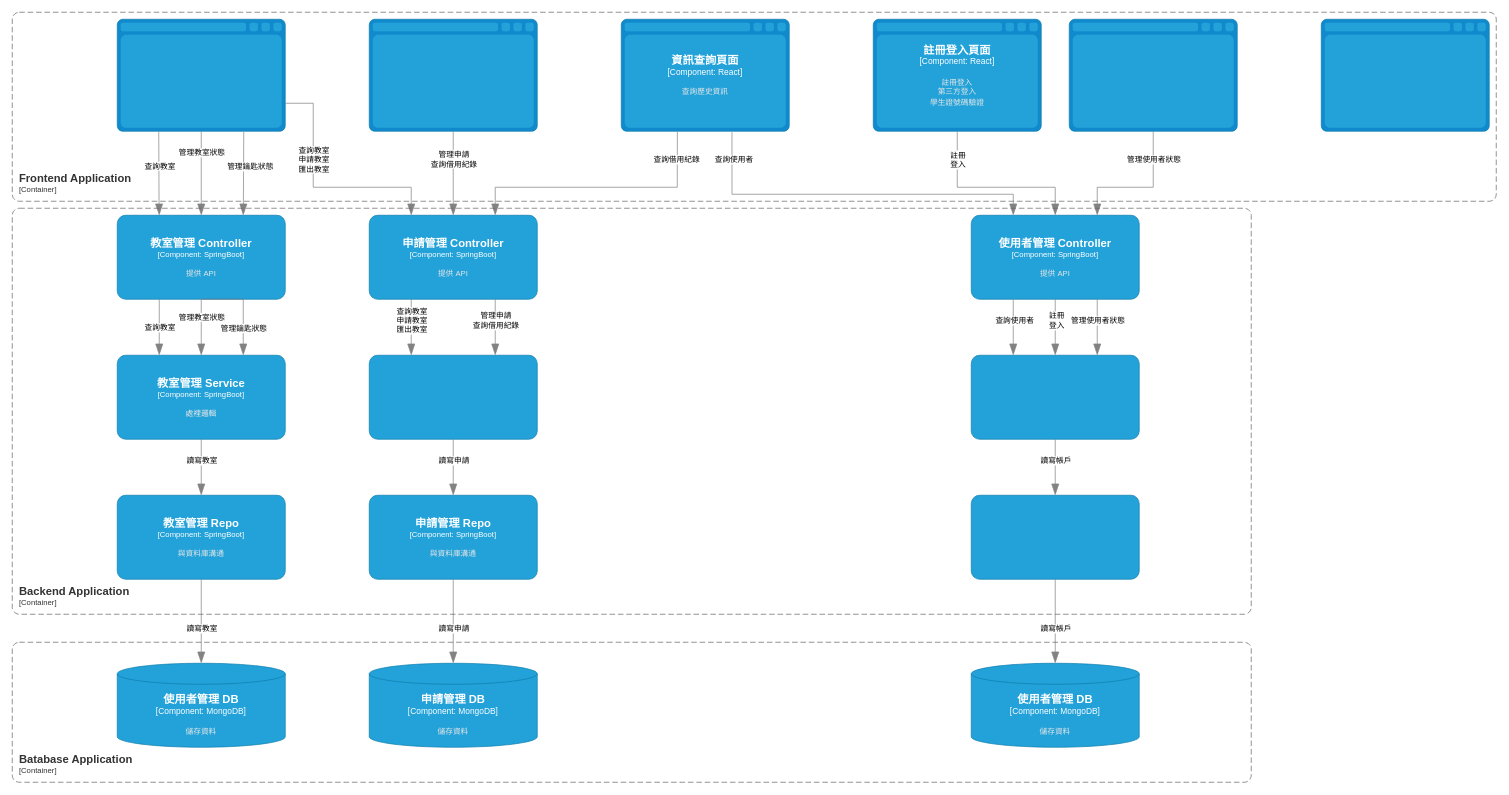
The diagram is 1509 pixels wide and 795 high, and some of its shapes have lost their labels. The shapes that lost their labels are listed below. From the top down, each one's centre as x and y in pixels, then its label:
At pixel 201 75: "查詢教室頁面 [Component: React] 查詢教室、申請教室 匯出教室 管理教室狀態 管理鑰匙狀態".
At pixel 453 75: "申請管理頁面 [Component: React] 同意/不同意申請 查看借用人紀錄".
At pixel 1153 75: "使用者狀態管理頁面 [Component: React] 管理使用者狀態".
At pixel 1405 75: "校園地圖頁面 [Component: React] 校園/系所地圖".
At pixel 453 397: "申請管理 Service [Component: SpringBoot] 處裡邏輯".
At pixel 1055 397: "使用者管理 Service [Component: SpringBoot] 處裡邏輯".
At pixel 1055 537: "使用者管理 Repo [Component: SpringBoot] 與資料庫溝通".
